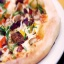pizza: (1, 1, 59, 64)
